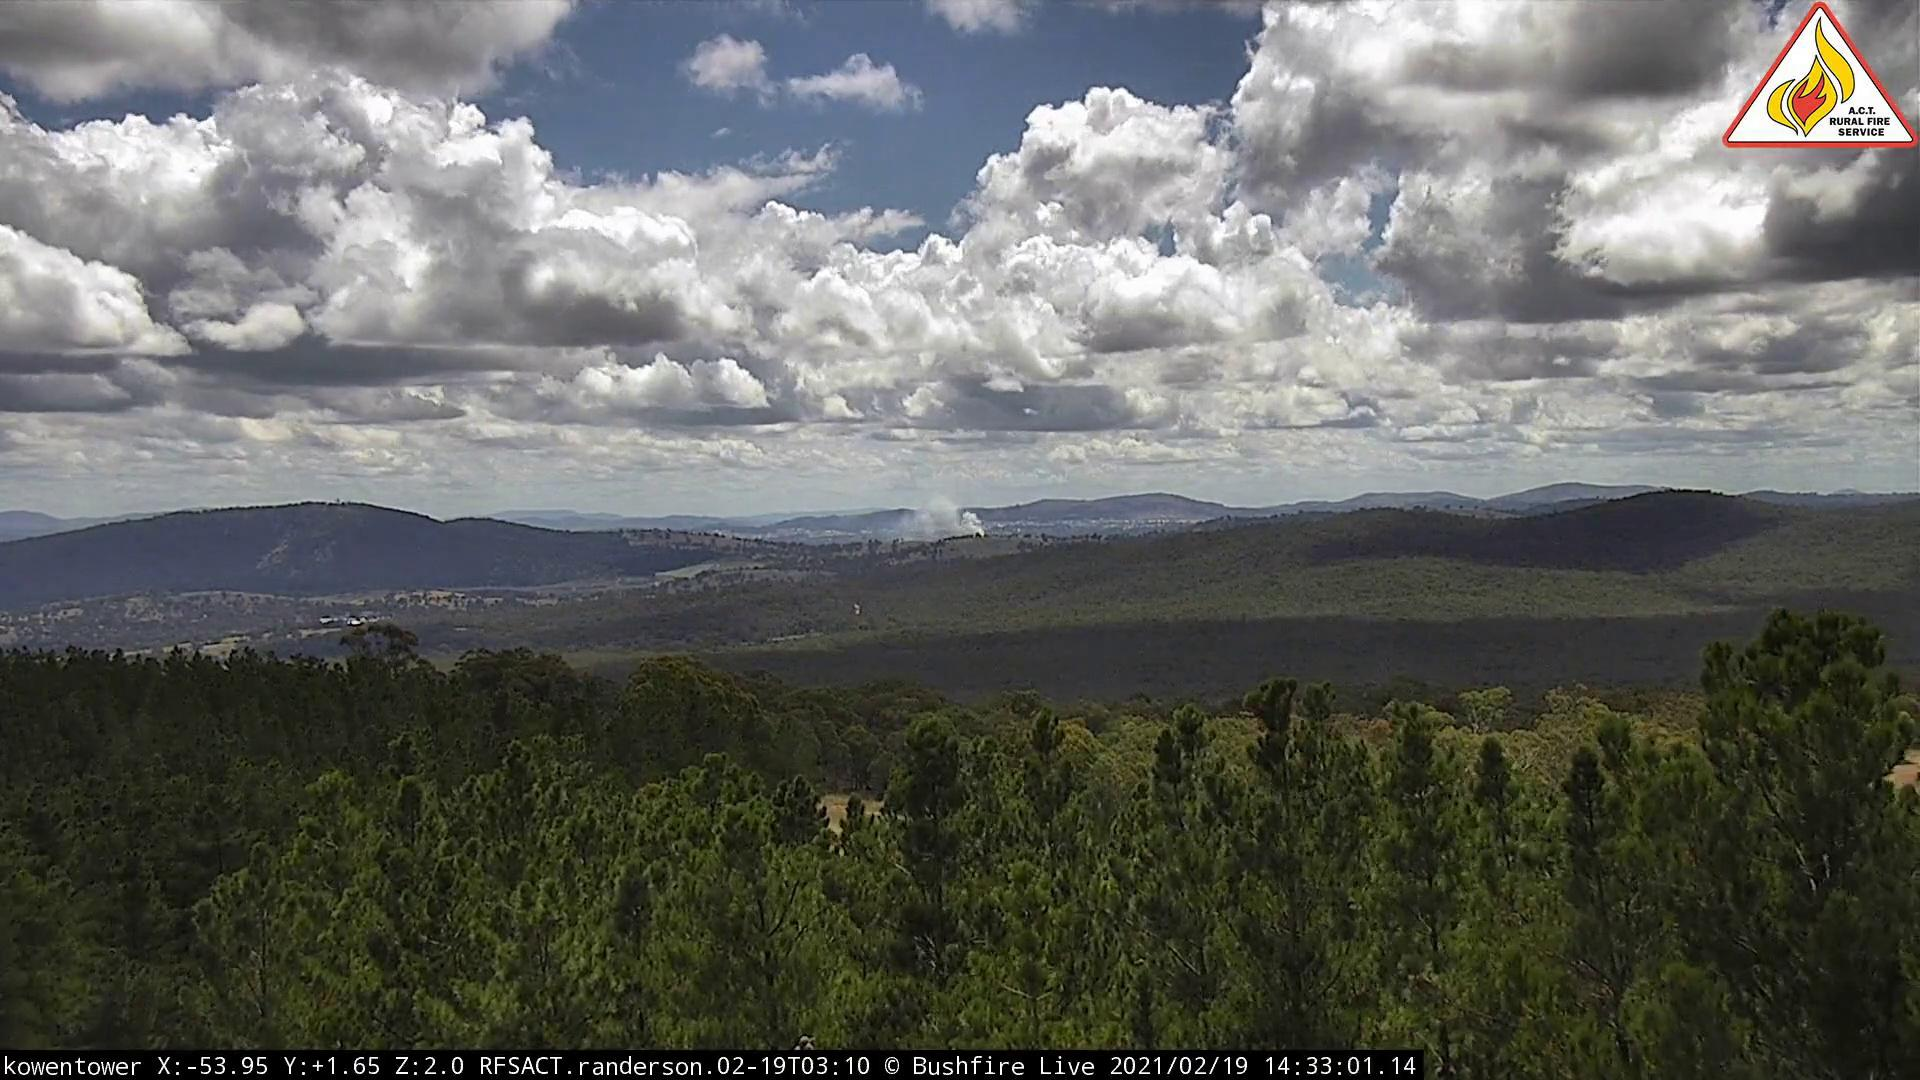Smoke: (891, 487, 988, 551)
